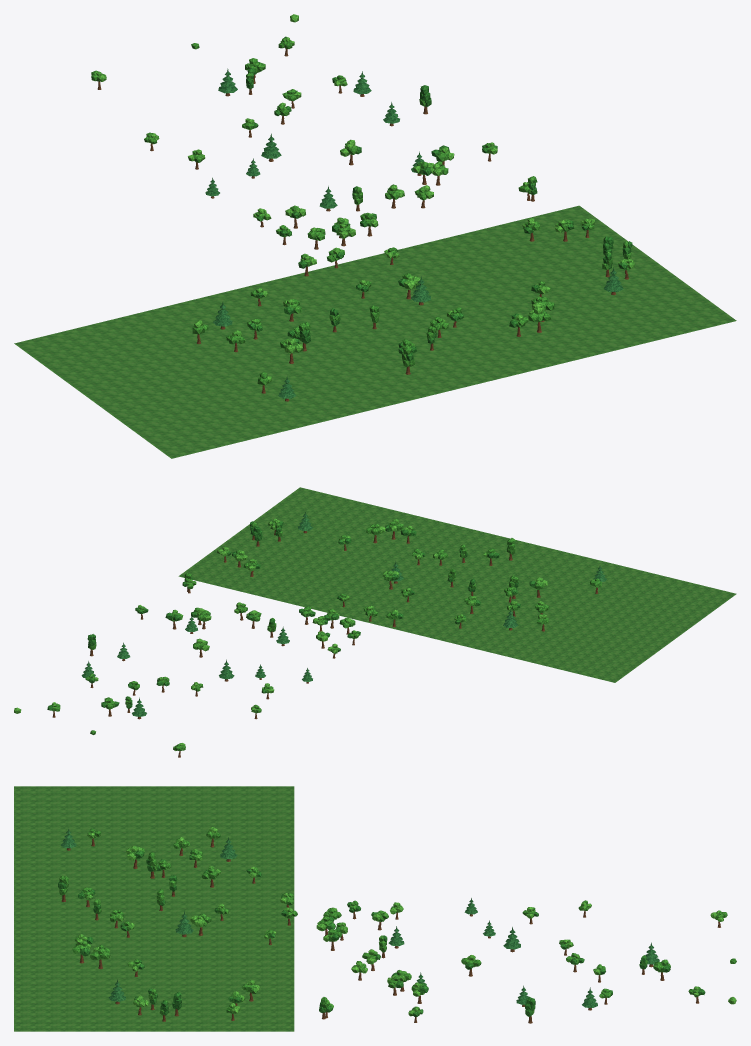
The model's file is skirt_3.glb.
3 views of the same model, one above another, from view 1: azimuth 30°, elevation 25°; view 2: azimuth 150°, elevation 25°; view 3: azimuth 270°, elevation 25° (orthographic). The views are drawn at different scales.
Parts seen in each view (by area): view 1: skirt_3; view 2: skirt_3; view 3: skirt_3.
Boxes of the visible parts, x1=… form: skirt_3: x1=14, y1=14, x2=736, y2=458; skirt_3: x1=14, y1=487, x2=736, y2=757; skirt_3: x1=14, y1=786, x2=736, y2=1031.
Size of the model in its own units: 116 by 5.67 by 144.
Materials: 6 (6 with a texture image).
